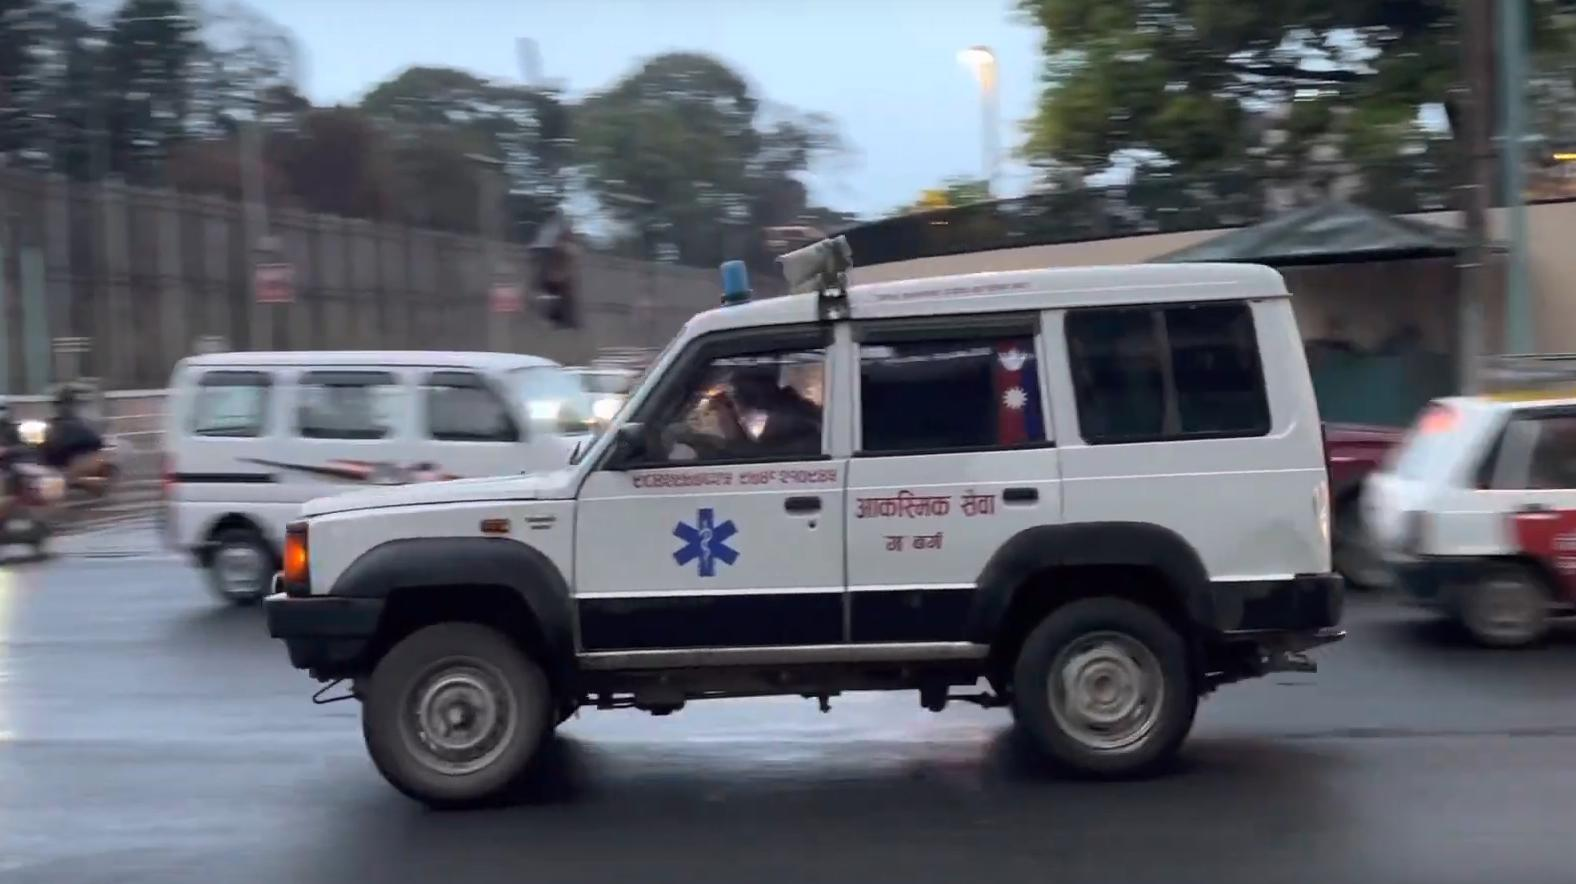ambulance: (239, 217, 1353, 812)
taxi: (1370, 375, 1576, 641)
van: (155, 343, 608, 607)
